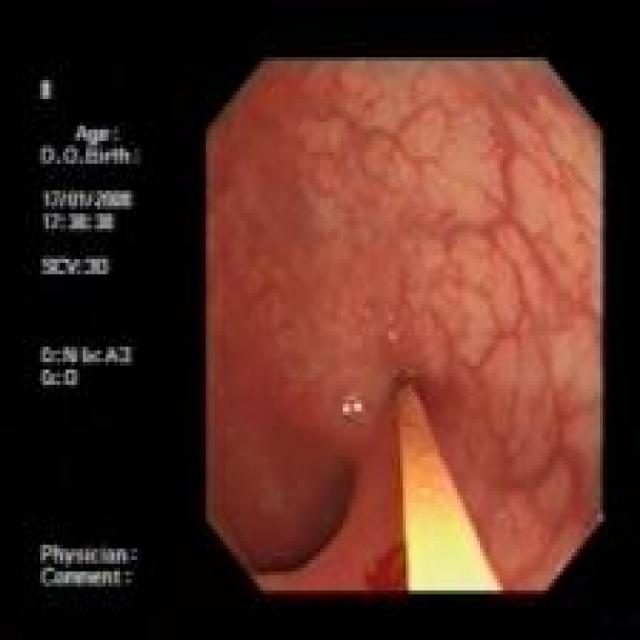color misalignment: (35, 68, 147, 599)
contrast: (308, 452, 355, 546), (240, 533, 318, 574)
instrument: (389, 373, 503, 589)
saturation: (401, 491, 500, 590)
specularity: (338, 397, 365, 421)
